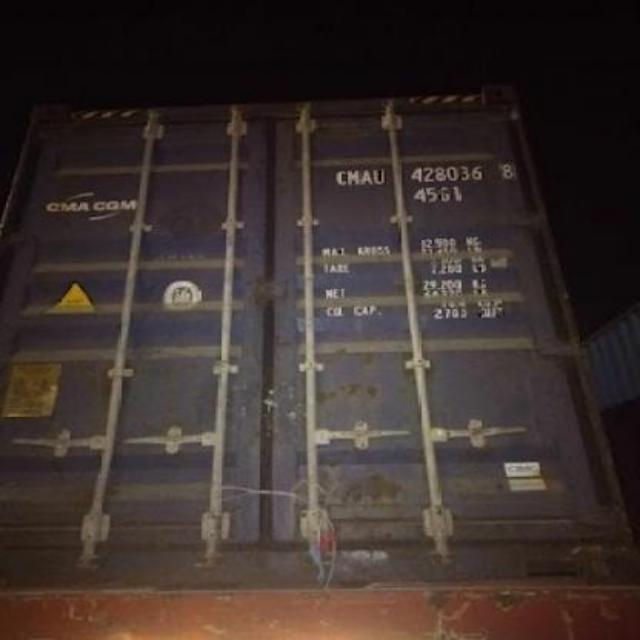0: (444, 156, 458, 184)
2: (422, 162, 434, 182)
3: (458, 160, 470, 184)
4: (408, 160, 422, 184)
6: (468, 156, 484, 184)
8: (494, 159, 516, 183), (432, 157, 444, 183)
A: (356, 163, 374, 187)
C: (334, 162, 346, 188)
M: (346, 163, 359, 187)
U: (370, 164, 386, 186)
